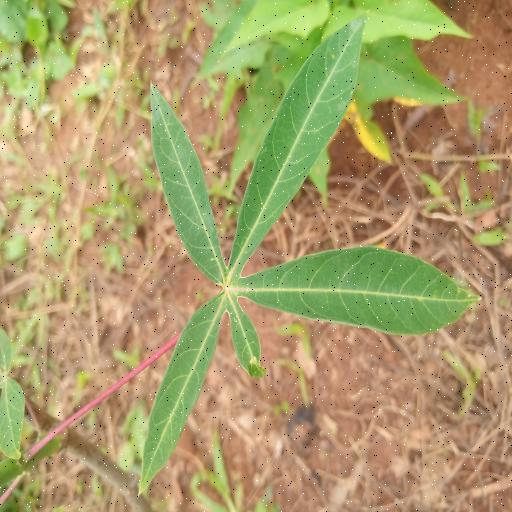Cassava_Healthy: (138, 20, 476, 498)
